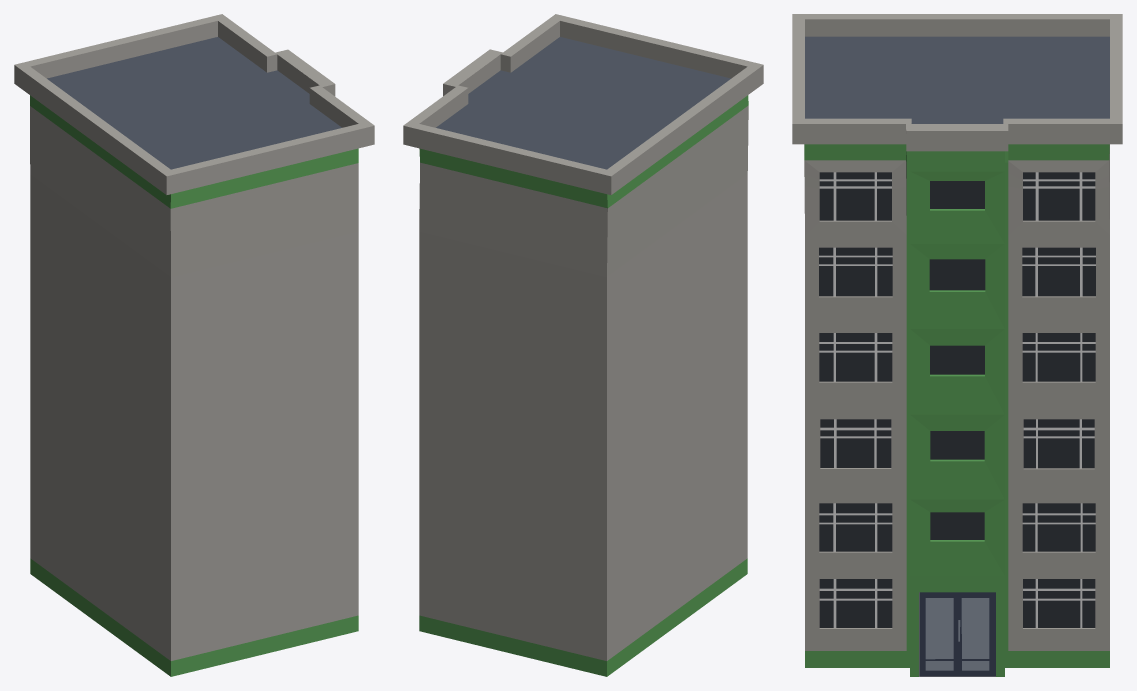
Rendered from Building_PanelBig_Green.fbx.
3 views of the same model, side by side, from view 1: azimuth 30°, elevation 25°; view 2: azimuth 150°, elevation 25°; view 3: azimuth 270°, elevation 25° (orthographic). The views are drawn at different scales.
Visible parts, largest first — view 1: Cube; view 2: Cube; view 3: Cube.
Part boxes in pixels (<box>): Cube: <box>14,14,374,676</box>; Cube: <box>403,14,763,676</box>; Cube: <box>792,14,1122,676</box>.
Size of the model in its own units: 753 by 1651 by 900.
